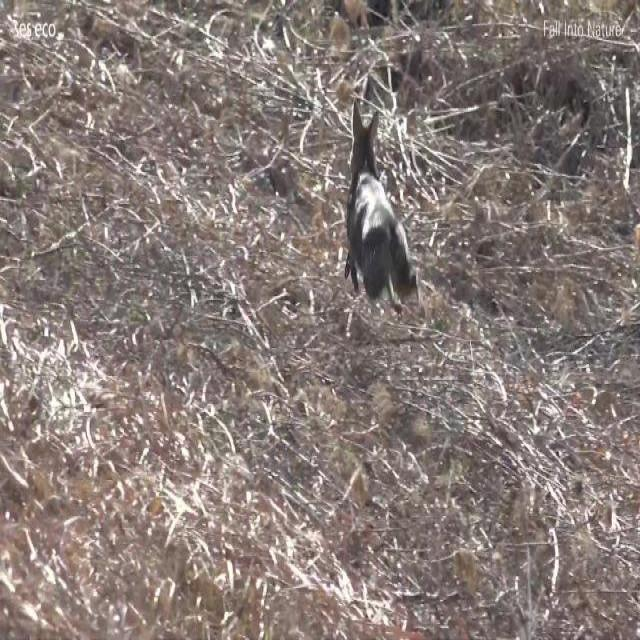deer: (343, 101, 425, 323)
